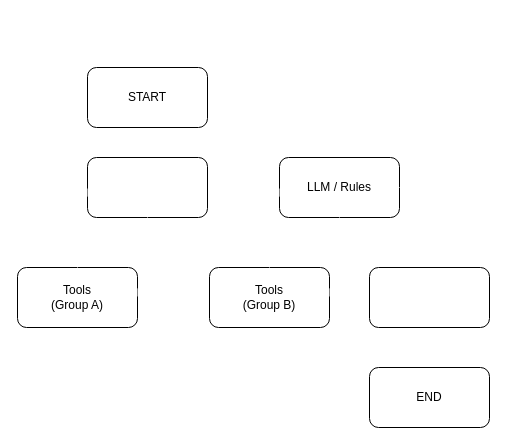
Image size: 507x445. Some labels were removed from this diagram. The shapes that lost their labels are listed below. From the top down, each one's centre as x and y in pixels, then its label:
the point at 147,187: LLM
the point at 429,297: Constraint
